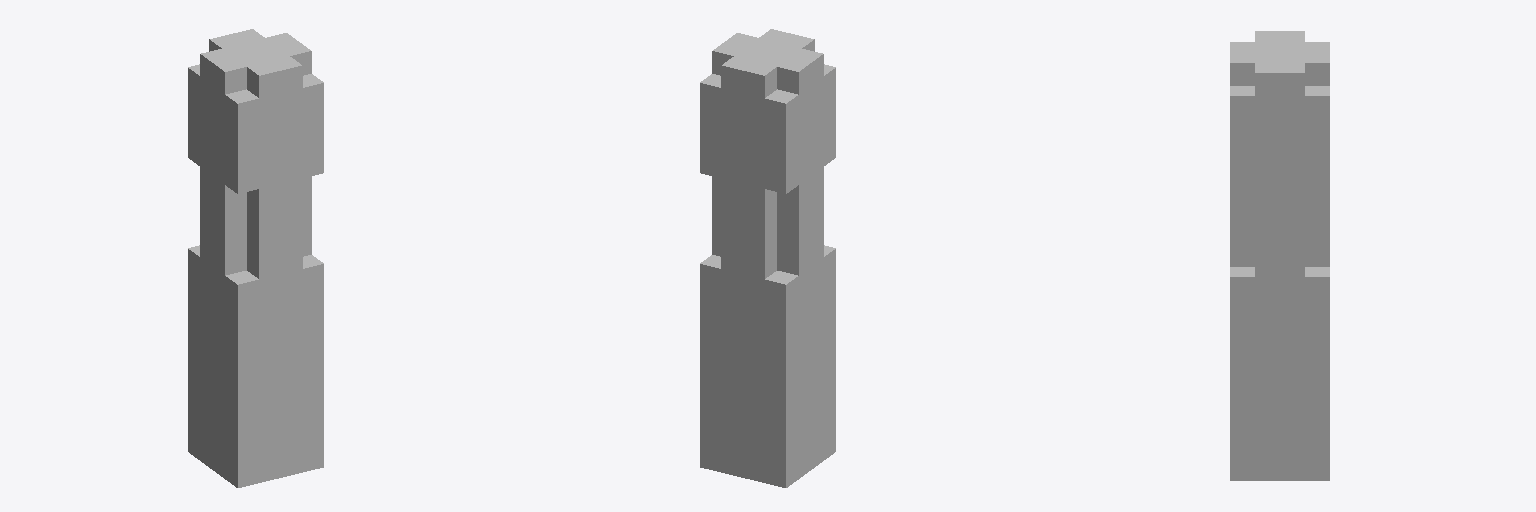
The model's file is fence_pole.obj.
The picture shows the model from 3 angles: view 1: azimuth 30°, elevation 25°; view 2: azimuth 150°, elevation 25°; view 3: azimuth 270°, elevation 25°; orthographic projection.
Visible parts, largest first — view 1: Untitled; view 2: Untitled; view 3: Untitled.
Part boxes in pixels (left/top/right/bottom): Untitled: left=188, top=29, right=323, bottom=487; Untitled: left=700, top=29, right=835, bottom=487; Untitled: left=1230, top=31, right=1329, bottom=480.
Size of the model in its own units: 0.4 by 1.8 by 0.4.